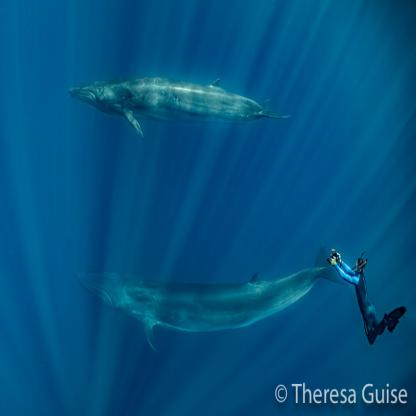blue_whale: (56, 242, 320, 363), (50, 54, 297, 152)
